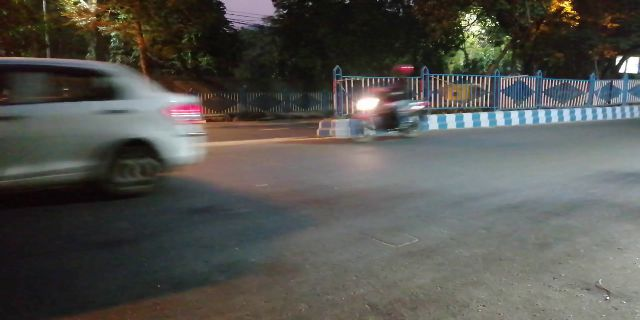Car: (7, 54, 216, 209)
Motorbike: (343, 66, 433, 146)
